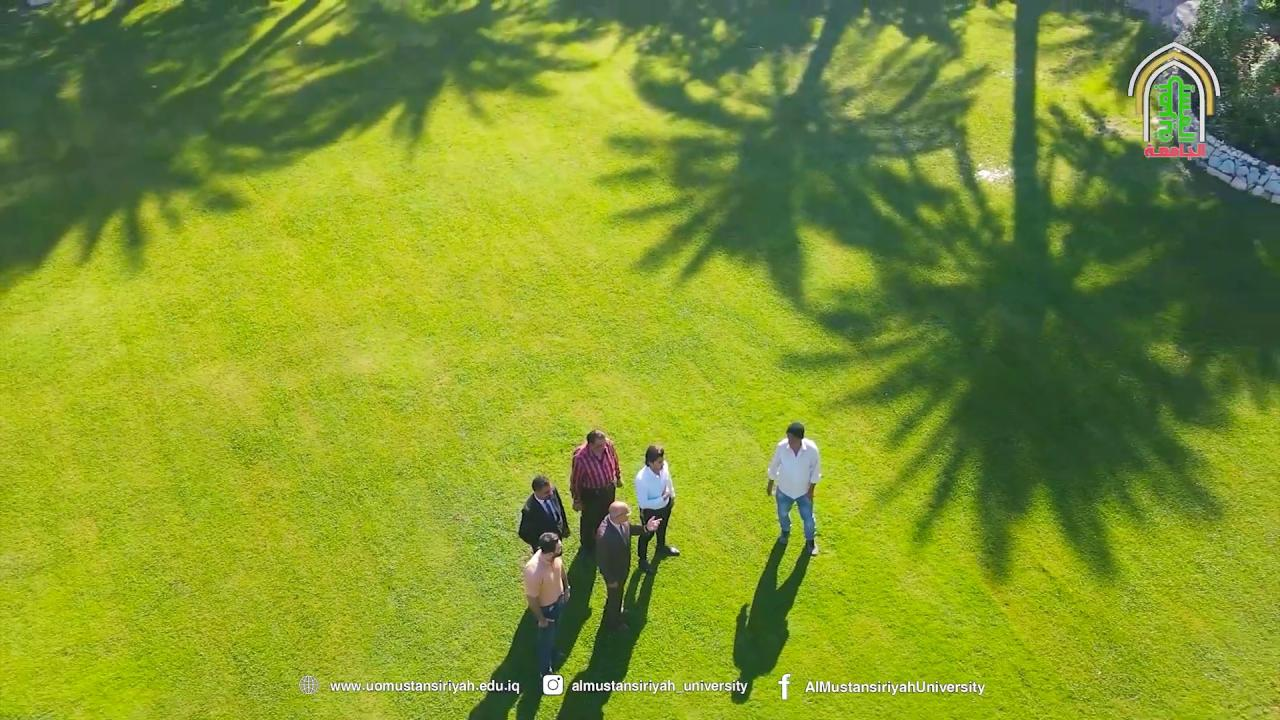person: (594, 500, 661, 631), (766, 421, 821, 556), (522, 532, 570, 680), (570, 429, 624, 551), (634, 444, 680, 574), (517, 474, 570, 557)
